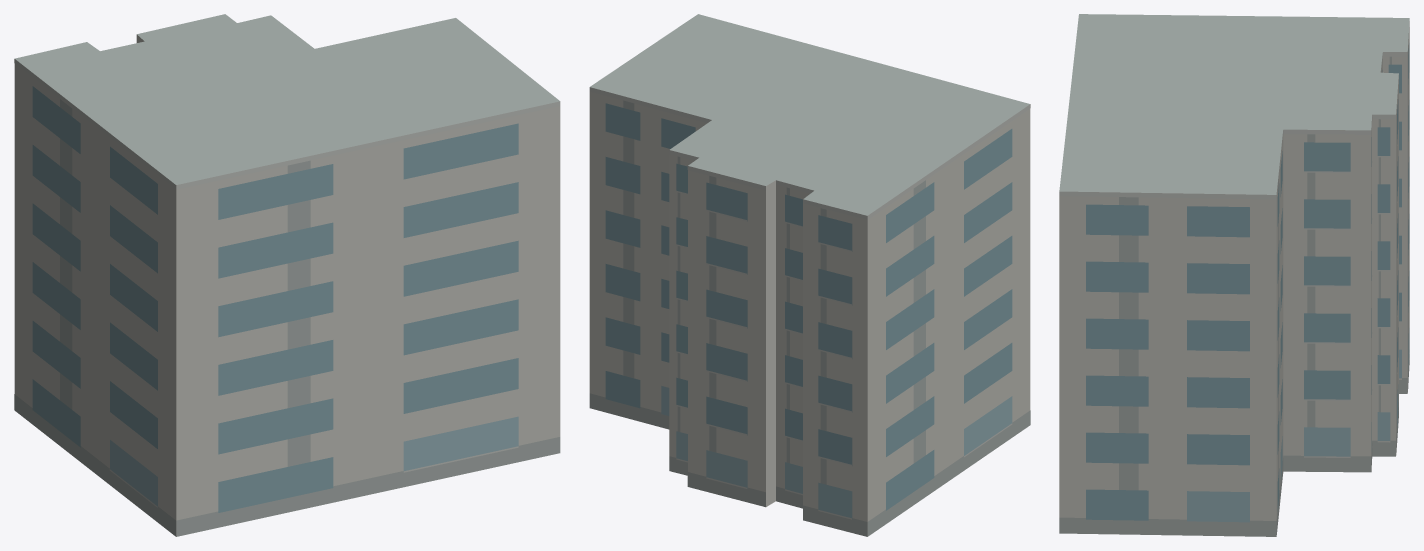
File: survey-upis-32960761.glb
3 views of the same model, side by side, from view 1: azimuth 30°, elevation 25°; view 2: azimuth 150°, elevation 25°; view 3: azimuth 270°, elevation 25° (orthographic). The views are drawn at different scales.
Visible parts, largest first — view 1: survey-upis-32960761.tmp; view 2: survey-upis-32960761.tmp; view 3: survey-upis-32960761.tmp.
Boxes of the visible parts, box(x1,y1,x2,y2) form: survey-upis-32960761.tmp: box(14, 14, 560, 536); survey-upis-32960761.tmp: box(589, 14, 1030, 536); survey-upis-32960761.tmp: box(1059, 14, 1409, 536).
Size of the model in its own units: 20.58 by 18.13 by 16.85.
